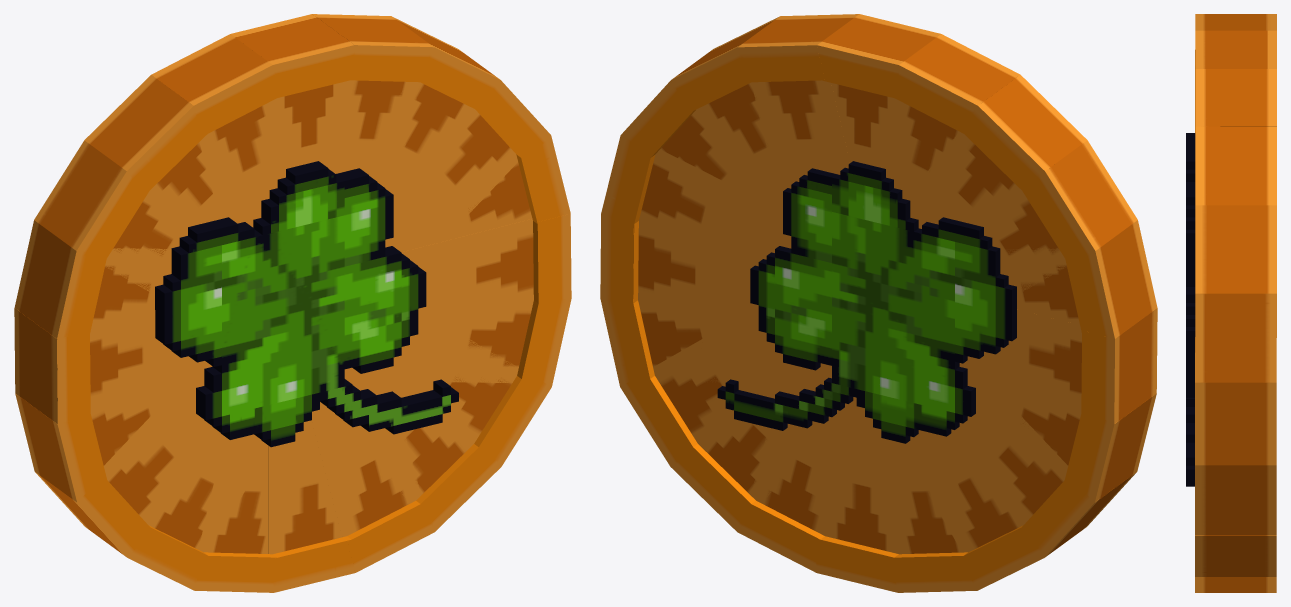
File: clover.fbx
3 views of the same model, side by side, from view 1: azimuth 30°, elevation 25°; view 2: azimuth 150°, elevation 25°; view 3: azimuth 270°, elevation 25° (orthographic). The views are drawn at different scales.
Visible parts, largest first — view 1: clover; view 2: clover; view 3: clover.
Part boxes in pixels (x1,y1,x2,y2): clover: (14,14,571,592); clover: (600,14,1157,592); clover: (1186,14,1276,592).
Bounding box in the file's own units: 629 × 617 × 100.
Materials: 1 (1 with a texture image).
